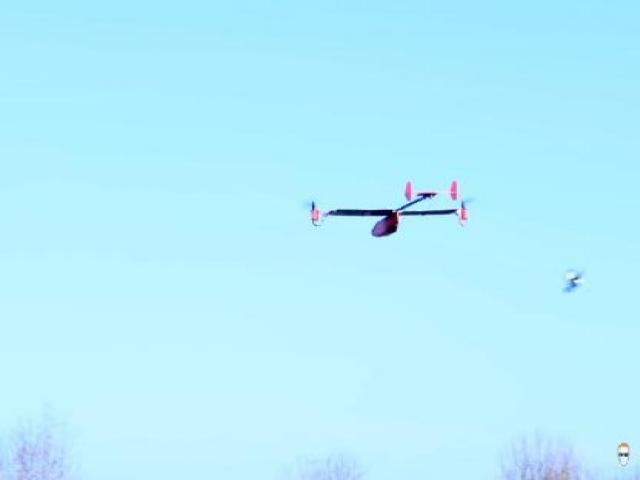uav: (302, 176, 481, 247)
